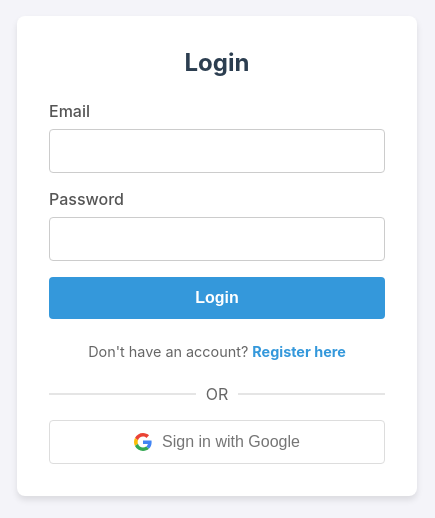
it: Login › switches back to login mode
The width and height of the screenshot is (435, 518).
Click the text "Register here".
click(299, 352)  # box [252,343,346,360]
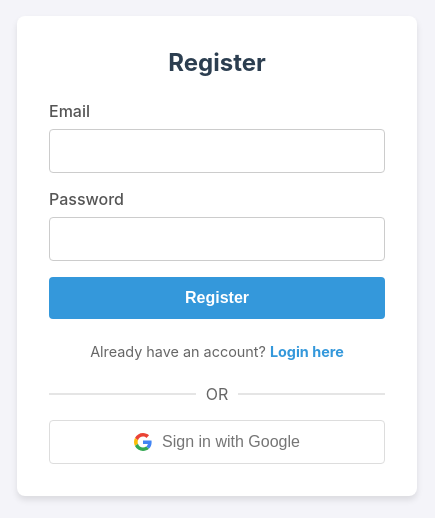
Click the text "Login here".
click(307, 352)  # box [270,343,344,360]
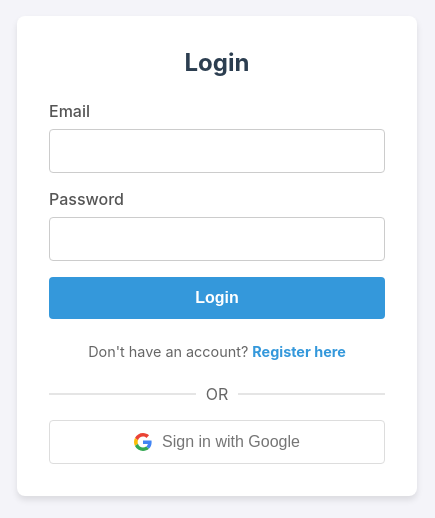
Result: the heading "Login" is shown at [184,48,249,77]
